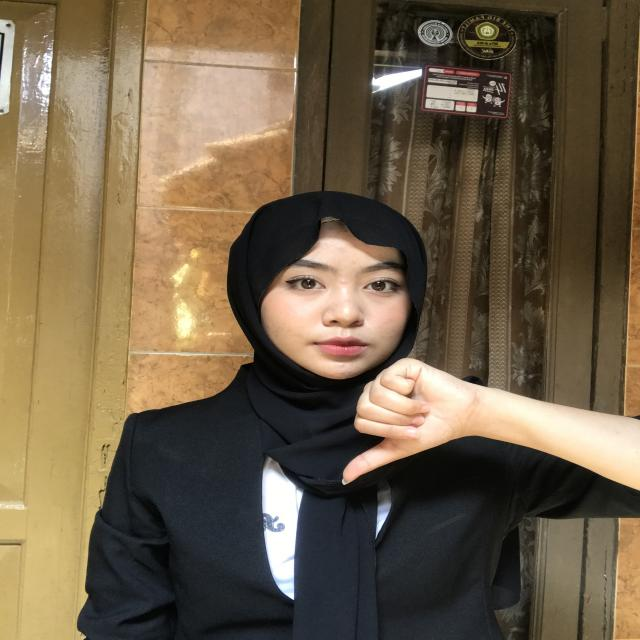sedih: (312, 327, 499, 508)
